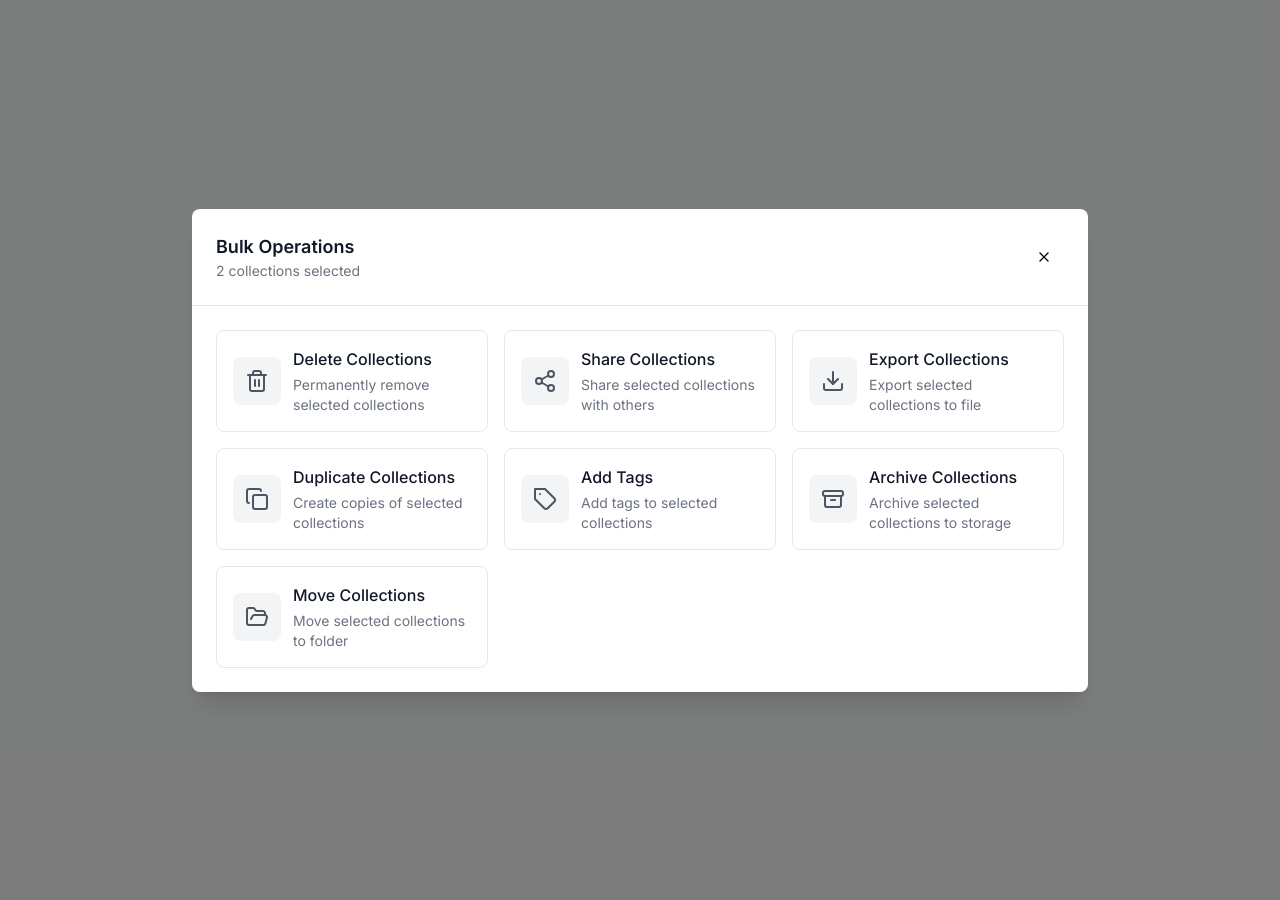
Test: BulkOperations › shows delete confirmation when delete is clicked
Click the heading "Delete Collections": (362, 358) top-left (293, 348), bottom-right (432, 368)
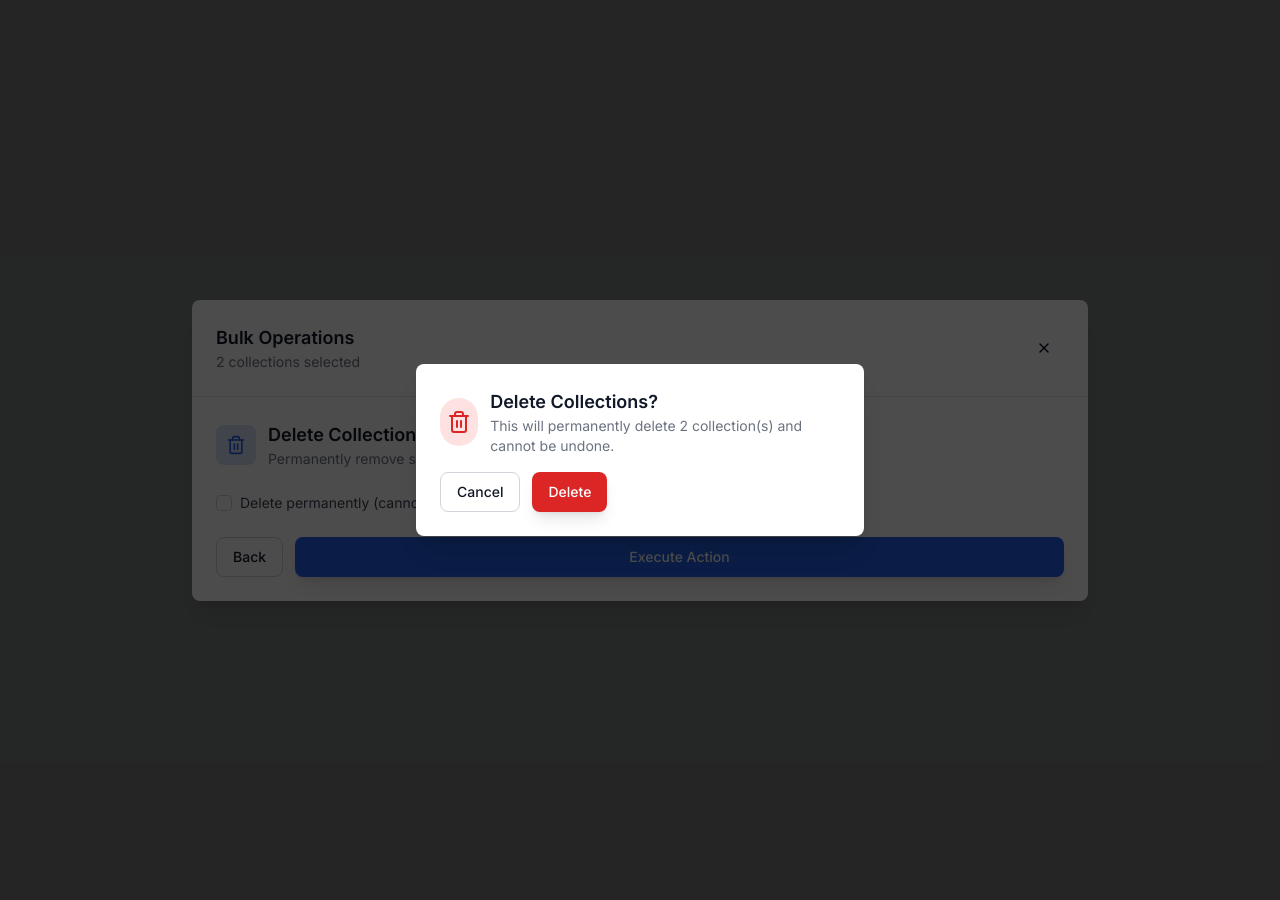
expect the heading "Delete Collections?" is shown: met, box top-left (490, 391), bottom-right (658, 412)
expect the text "This will permanently delete 2 collection" is shown: met, box top-left (490, 416), bottom-right (840, 456)
